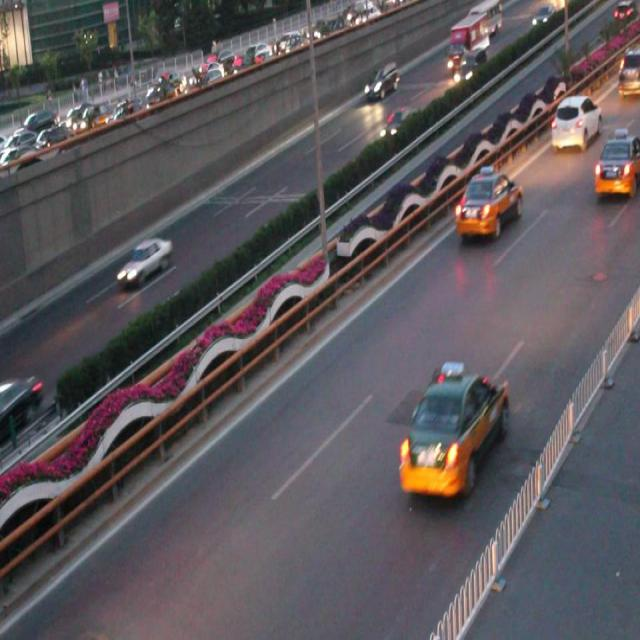car: (398, 362, 508, 498), (455, 166, 523, 238), (592, 132, 640, 197), (549, 96, 601, 151), (116, 236, 171, 288), (0, 371, 42, 438), (378, 106, 417, 141)
truck: (362, 63, 398, 101)
